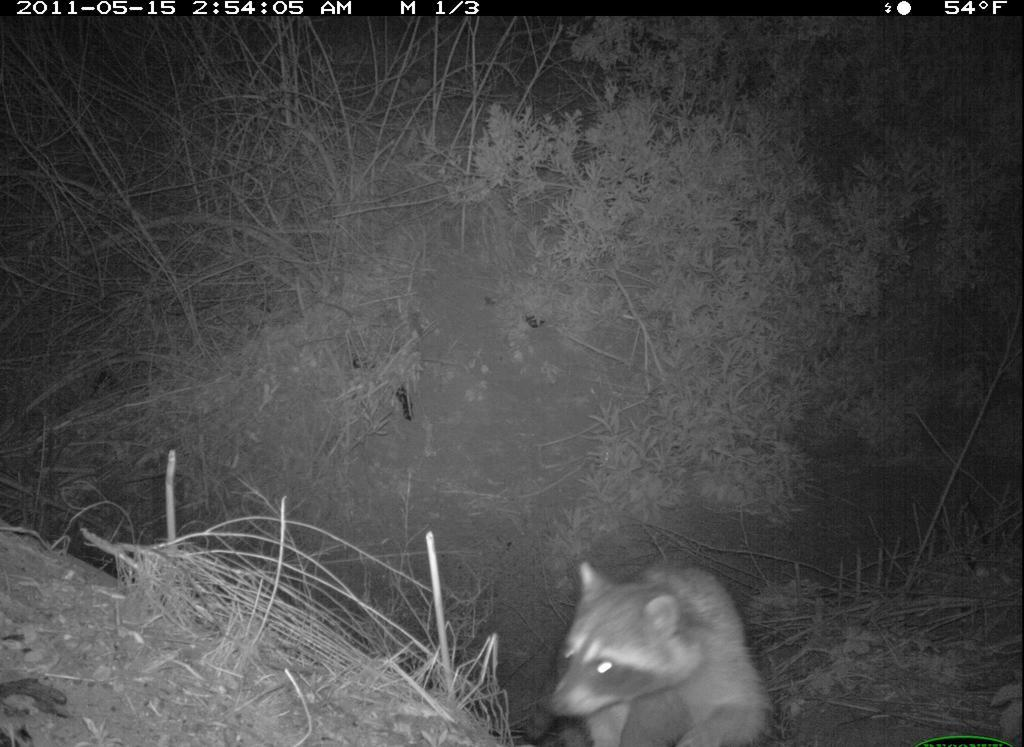raccoon: (539, 541, 783, 747)
